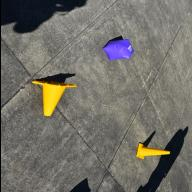cone: (30, 80, 76, 116), (134, 142, 170, 160)
cube: (101, 38, 134, 60)
